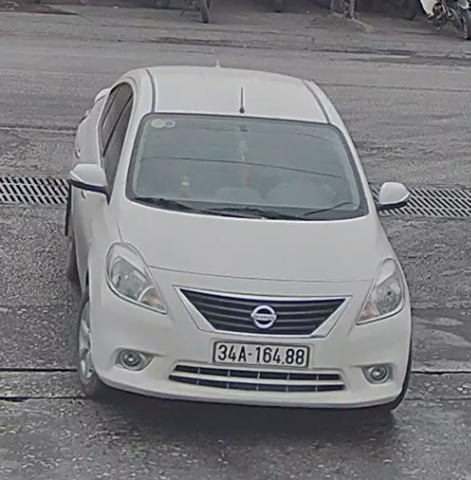vehicle plate: (210, 337, 316, 370)
